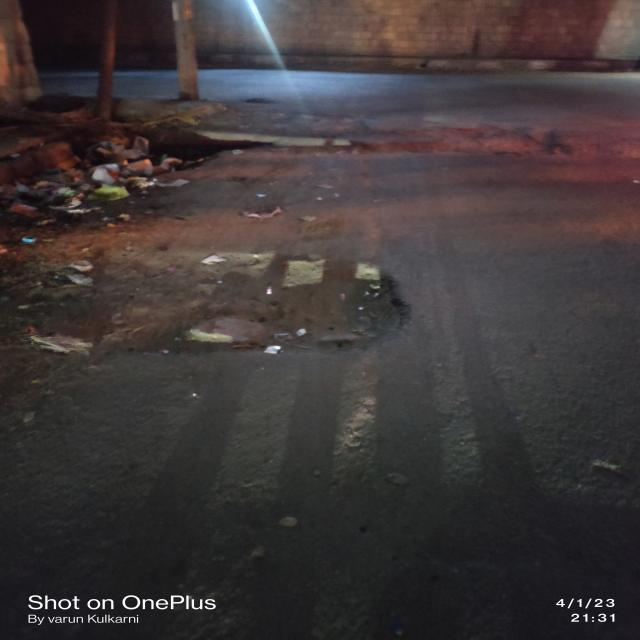potholes: (11, 242, 422, 360), (203, 115, 586, 171)
